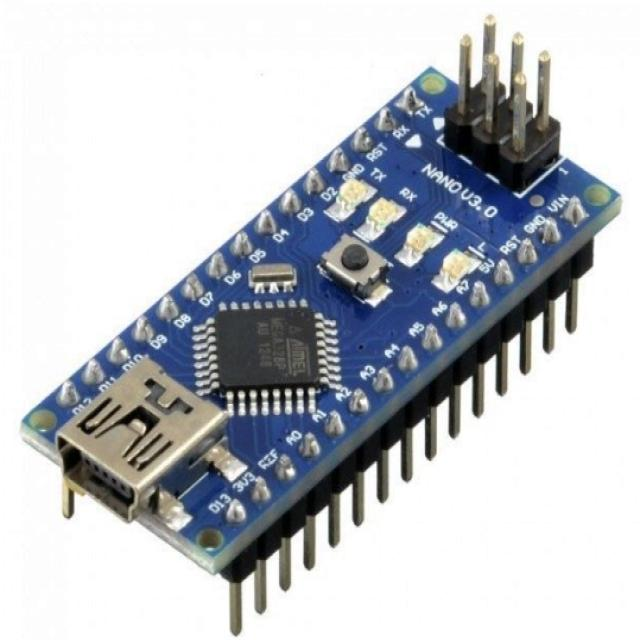Arduino-Nano: (22, 19, 622, 634)
